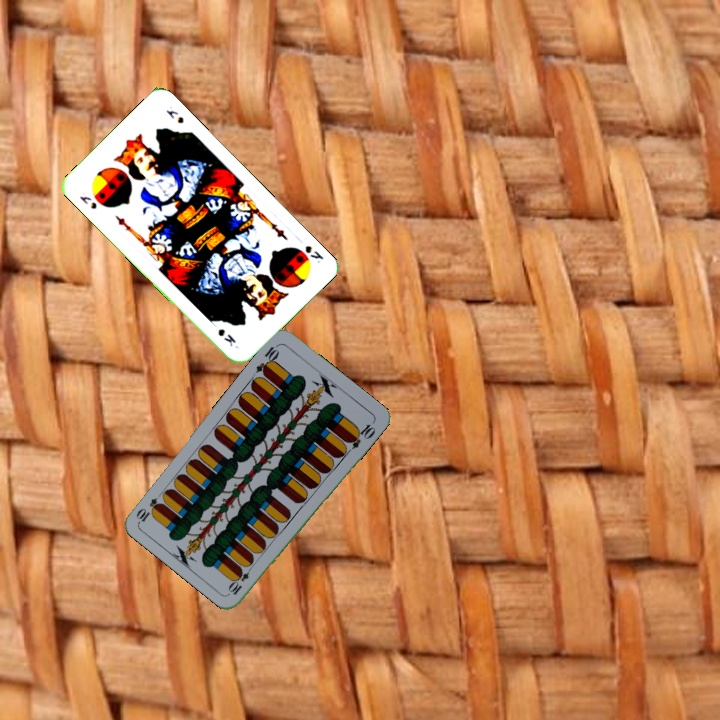E10: (252, 340, 282, 378), (225, 561, 256, 597)
SK: (301, 241, 326, 266), (75, 192, 99, 212)
